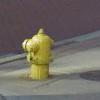Hydrant: (15, 22, 61, 85)
